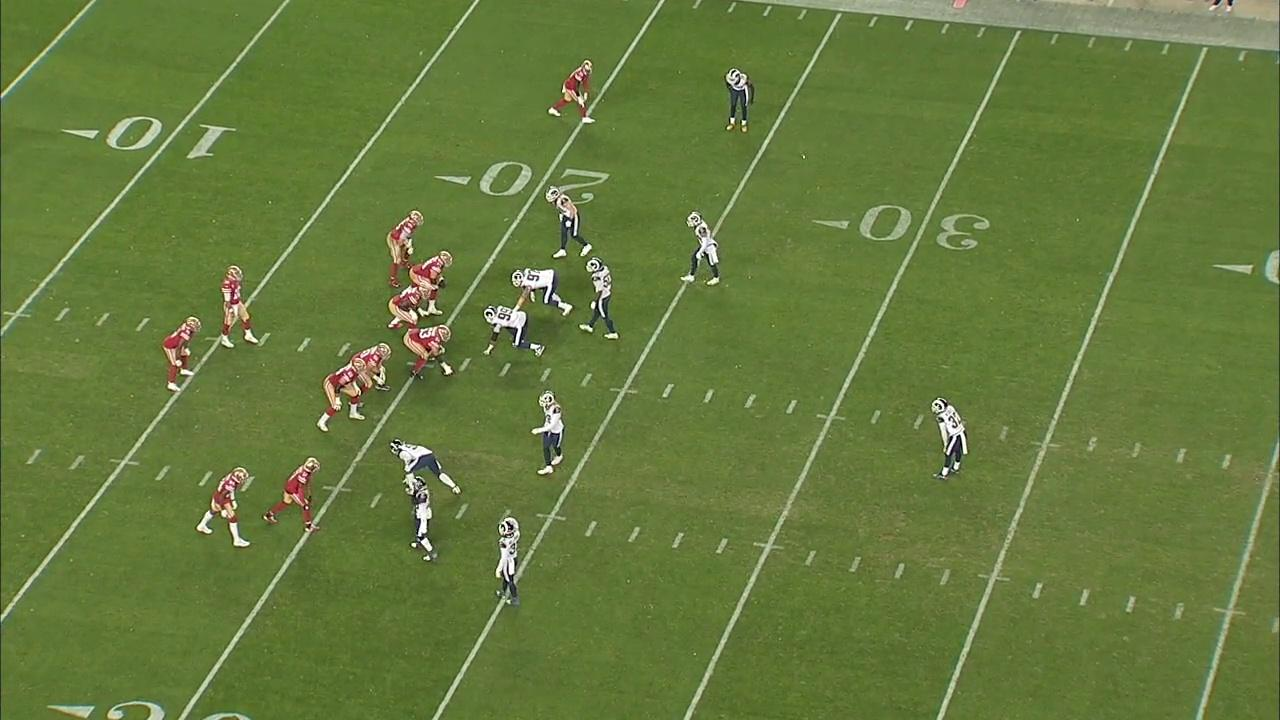defense: (389, 437, 464, 496), (542, 183, 593, 260), (578, 257, 623, 343), (482, 304, 547, 359), (680, 210, 725, 288), (929, 397, 969, 483), (528, 388, 566, 478), (510, 265, 575, 316), (493, 516, 525, 611), (406, 475, 439, 564), (723, 67, 757, 134)
oline: (315, 355, 367, 434), (407, 249, 455, 317), (347, 340, 394, 408), (401, 323, 457, 380), (386, 282, 432, 331)
qb: (217, 263, 261, 349)
skill: (194, 463, 253, 549), (262, 455, 322, 537), (158, 314, 203, 395), (546, 59, 599, 126), (384, 208, 426, 291)
